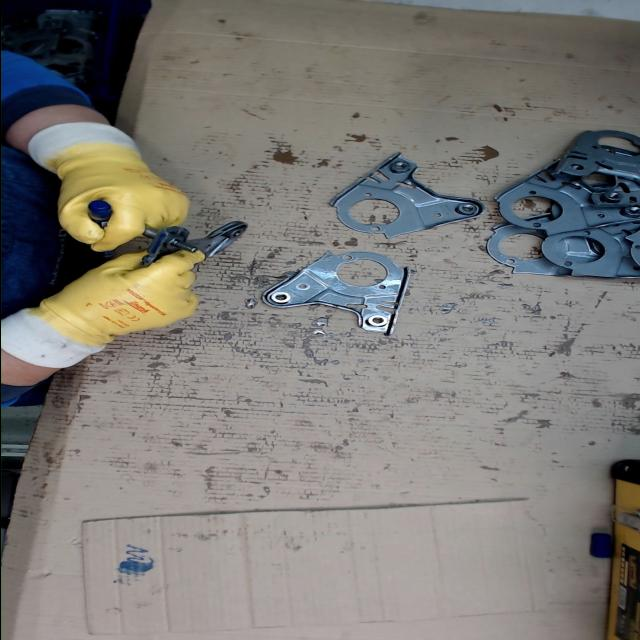hands: (42, 249, 208, 355), (49, 148, 192, 252)
